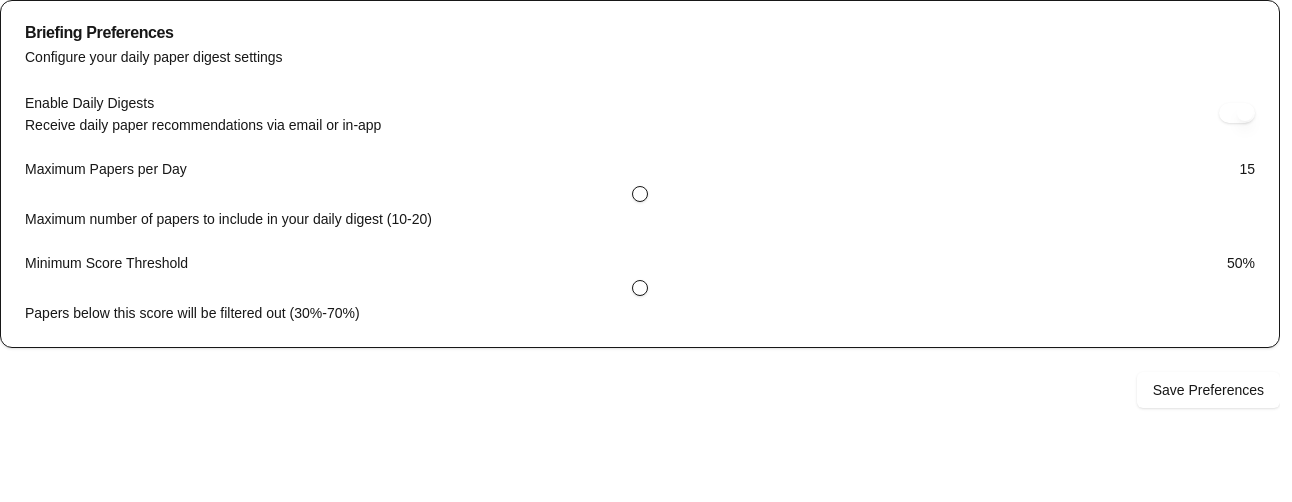
Test: PreferencesSettings › Error Handling › should display generic error message for non-Error exceptions
Click the button "Save Preferences": (1208, 390) [1137,372,1280,408]
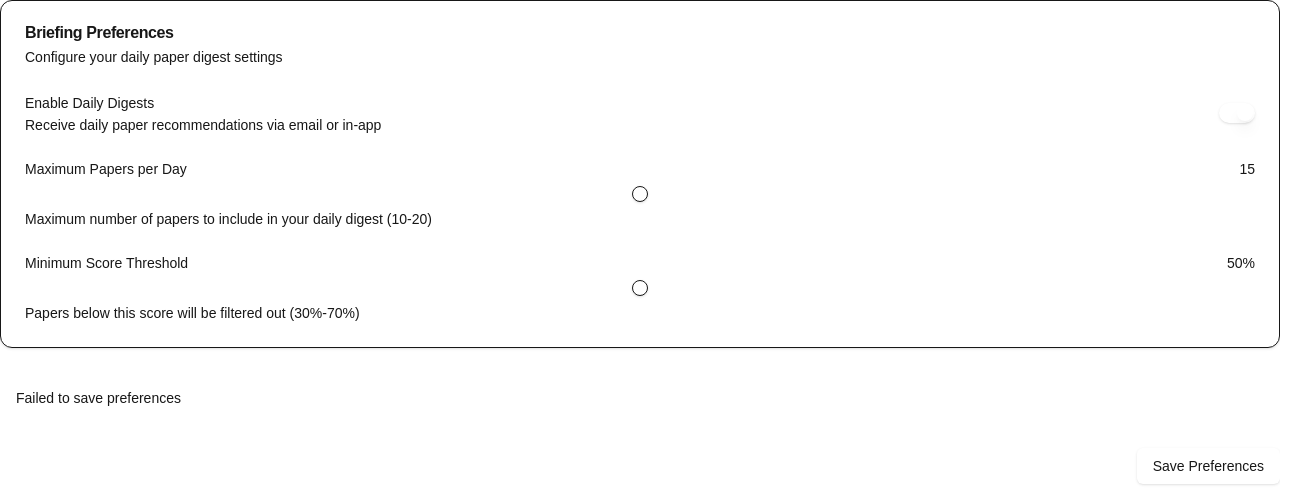
Expected: the text "Failed to save preferences" is shown, [16,390,181,406]
